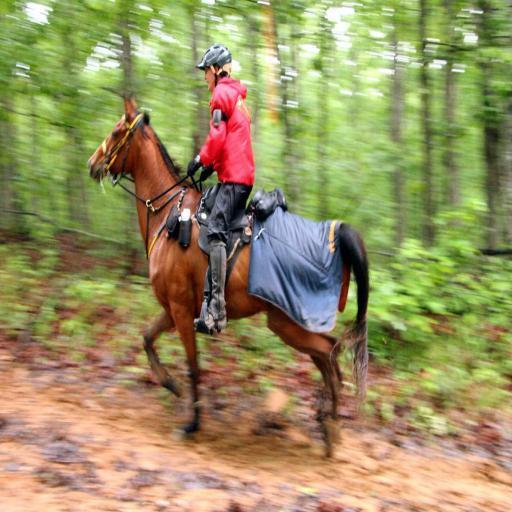horse: (85, 90, 370, 451)
